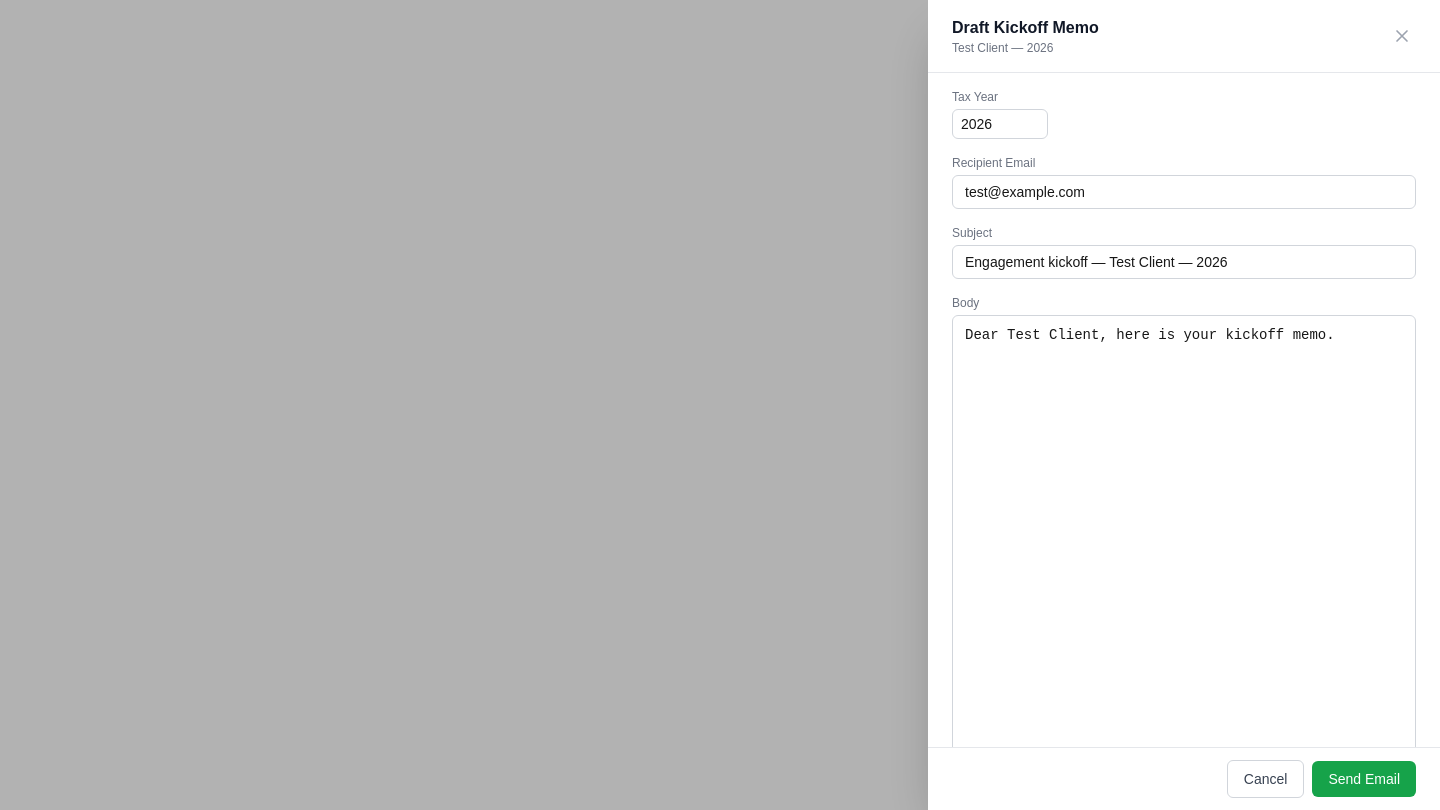
Test case: KickoffMemoDraftModal › renders failure toast and keeps modal open on send rejection
Expected: the field showing "Engagement kickoff — Test Client — 2026" below "Subject" is shown, [952, 245, 1416, 279]
// Click Send
Click the button "Send Email" at [1364, 779], box [1312, 761, 1416, 797]
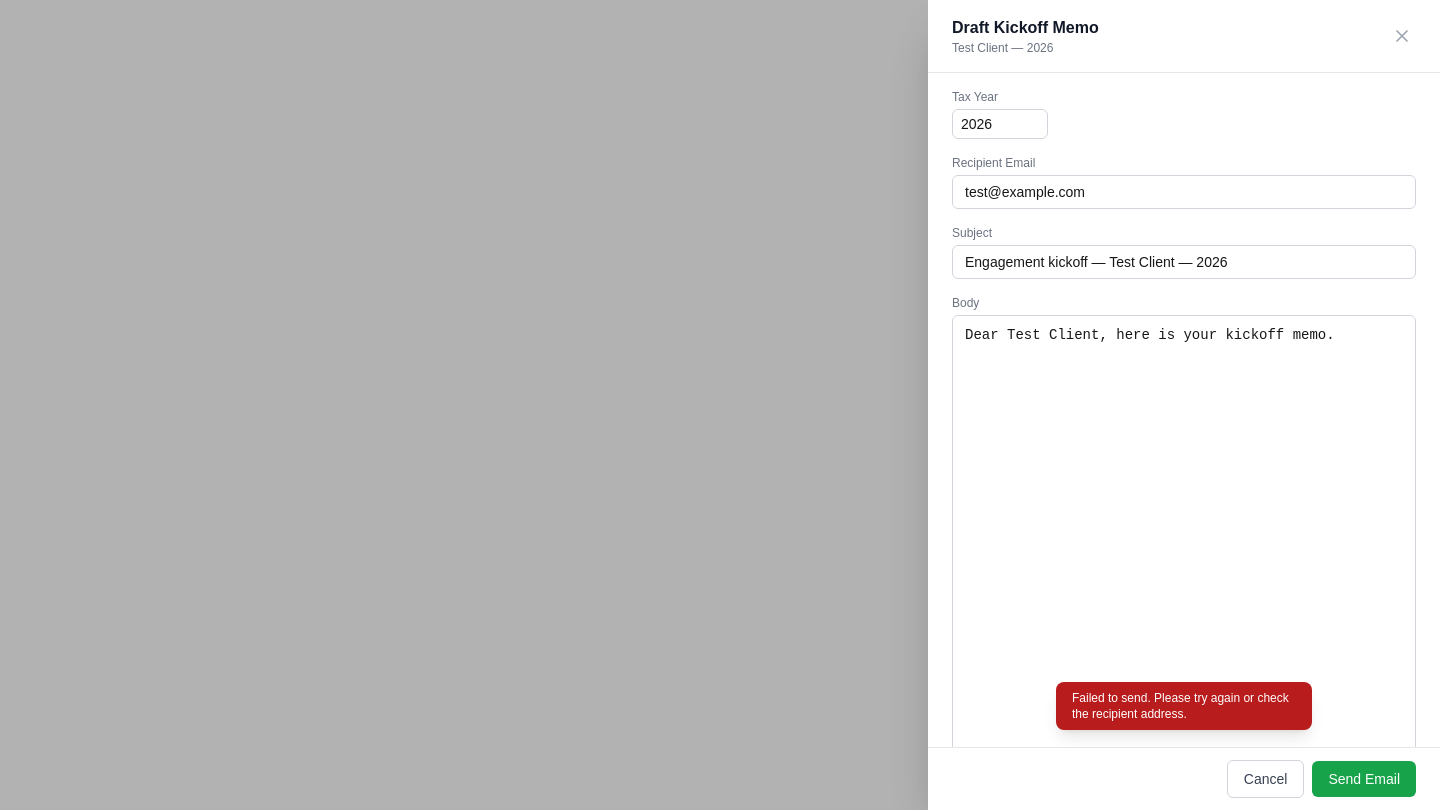
Expected: the field showing "Engagement kickoff — Test Client — 2026" below "Subject" is shown, [952, 245, 1416, 279]
Expected: the text "Failed to send. Please try again or check the recipient address." is shown, [1056, 682, 1312, 730]
